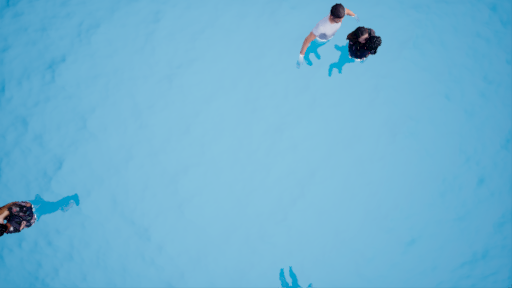person: (285, 2, 390, 74), (1, 195, 87, 238)
